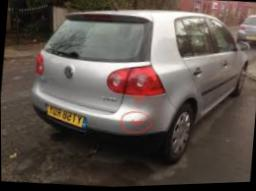Bumper: (119, 110, 153, 139)
